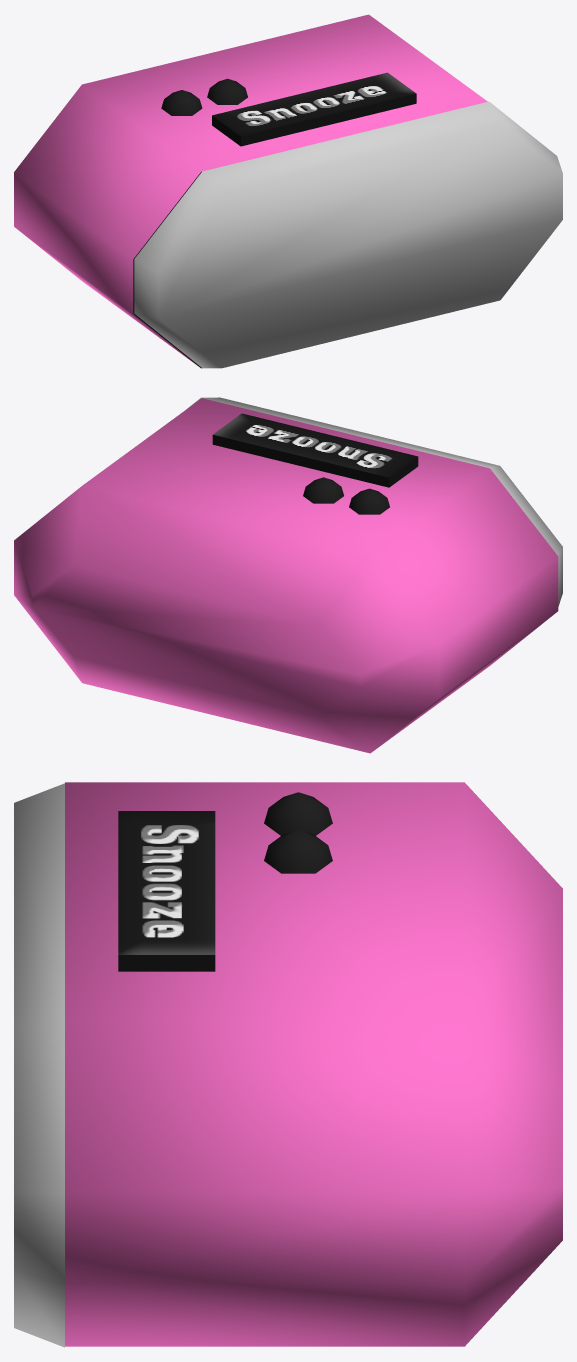
The model's file is Alarm_Clock_H.FBX.
The picture shows the model from 3 angles, top to bottom: view 1: azimuth 30°, elevation 25°; view 2: azimuth 150°, elevation 25°; view 3: azimuth 270°, elevation 25°; orthographic projection. The views are drawn at different scales.
Parts seen in each view (by area): view 1: Alarm Clock; view 2: Alarm Clock; view 3: Alarm Clock.
Boxes of the visible parts, bbox=[...] form: Alarm Clock: bbox=[14, 14, 562, 368]; Alarm Clock: bbox=[14, 397, 562, 753]; Alarm Clock: bbox=[14, 782, 562, 1347].
Size of the model in its own units: 45.12 by 21.9 by 30.18.
